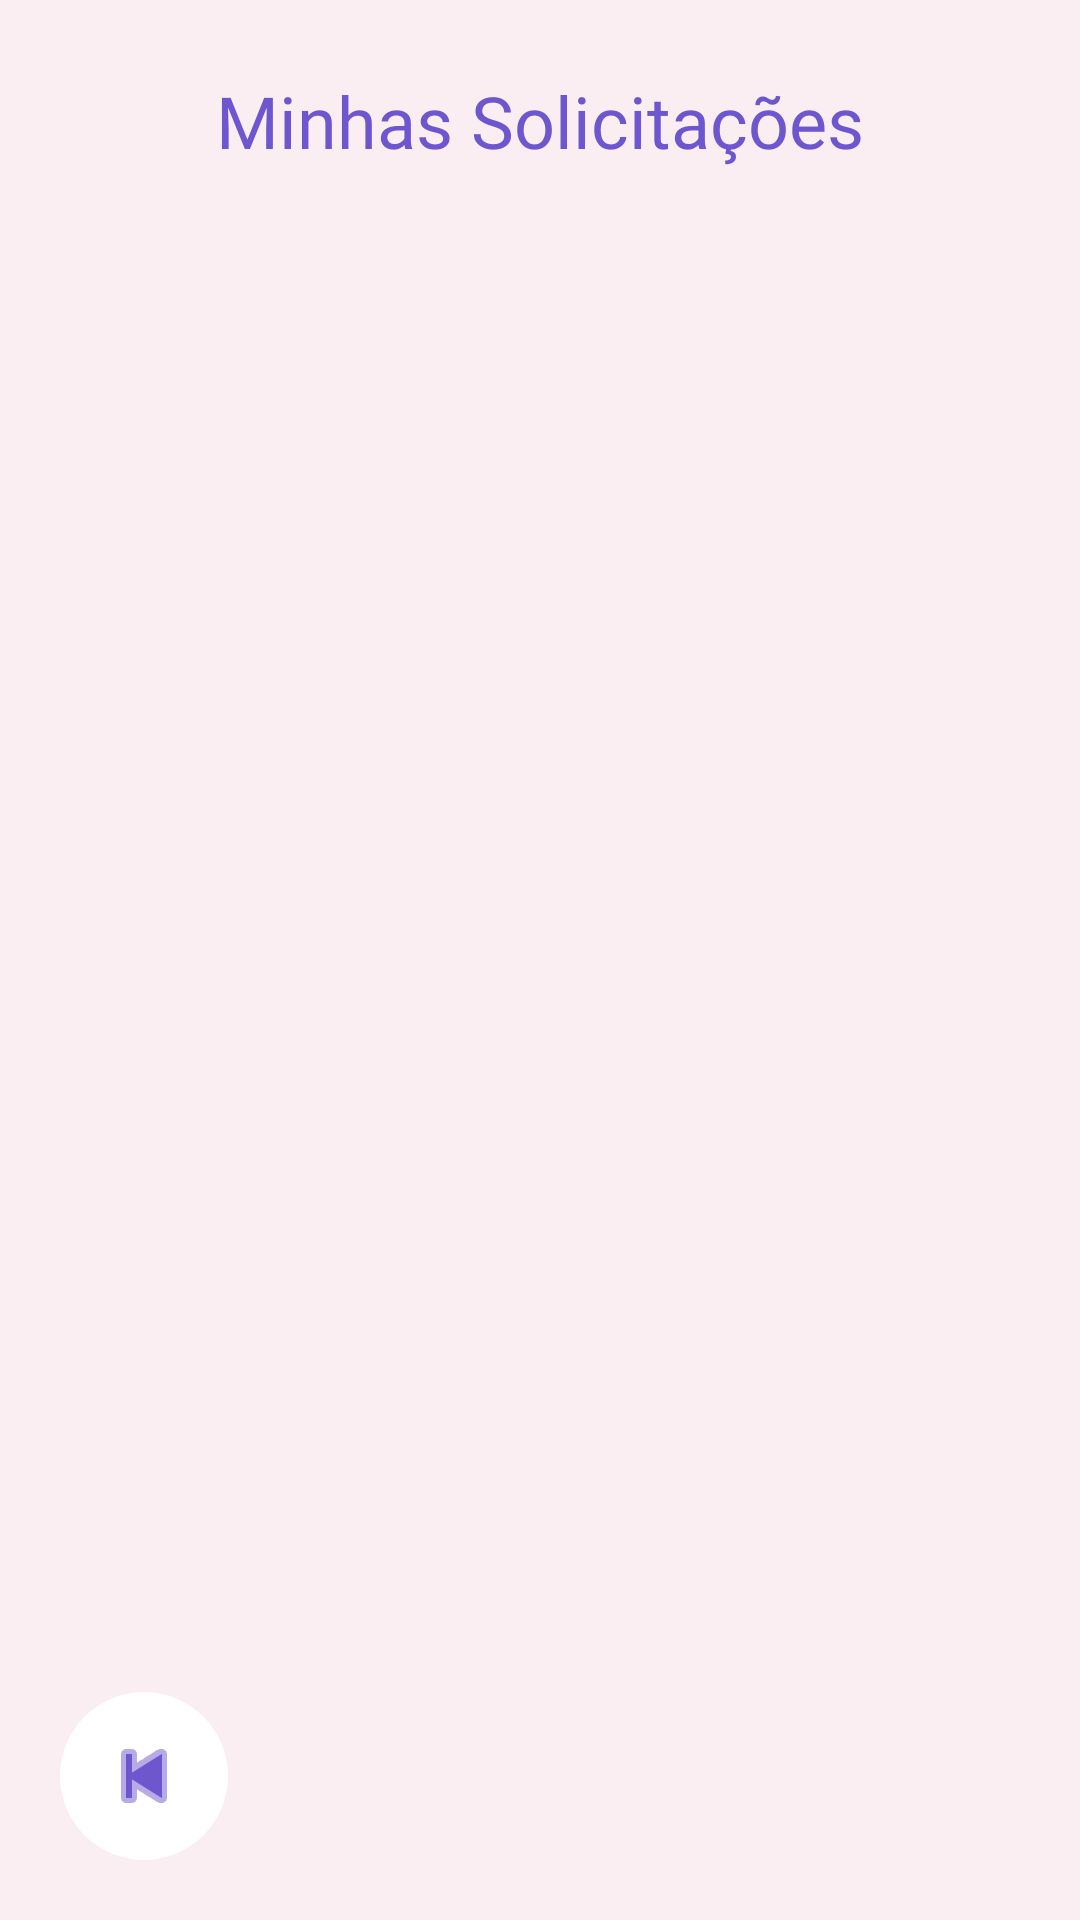

Screen size 1080*1920. Icon name, then its box in pixels as (x1, y1, x2, y2):
previous: (121, 1749, 167, 1803)
